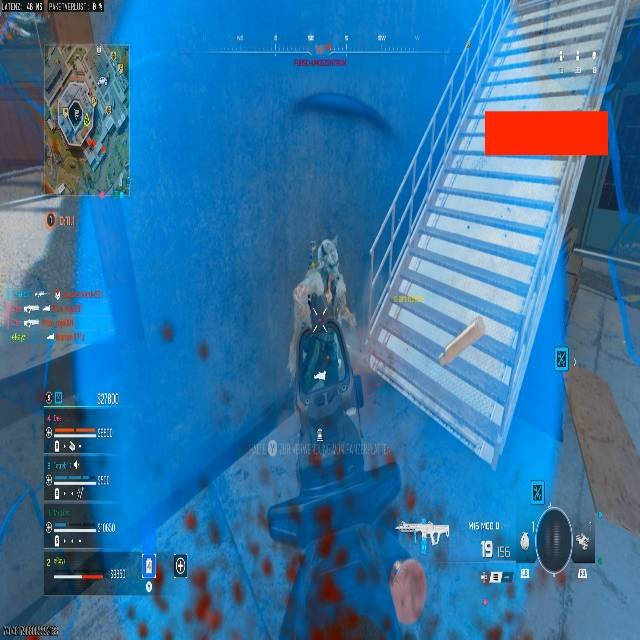head: (310, 240, 340, 274)
player: (285, 468, 427, 639), (291, 235, 358, 443)
